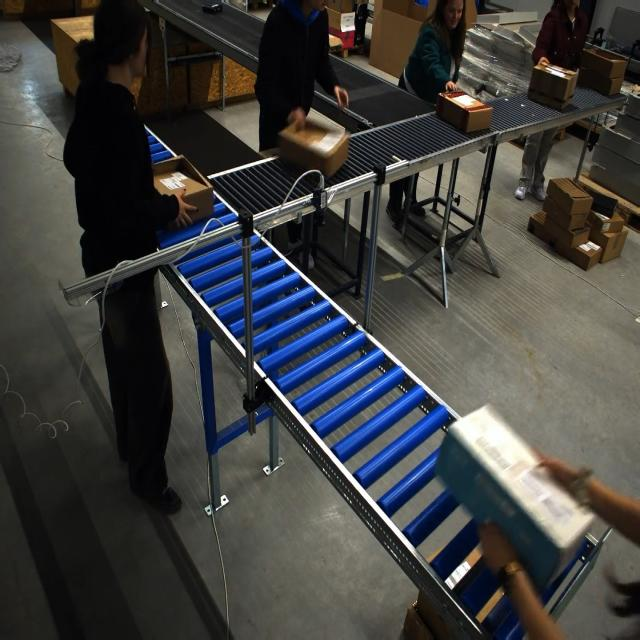box: (434, 405, 595, 585), (150, 155, 213, 225), (276, 117, 341, 179), (527, 59, 578, 110), (434, 89, 491, 133)
product: (202, 3, 223, 14)
